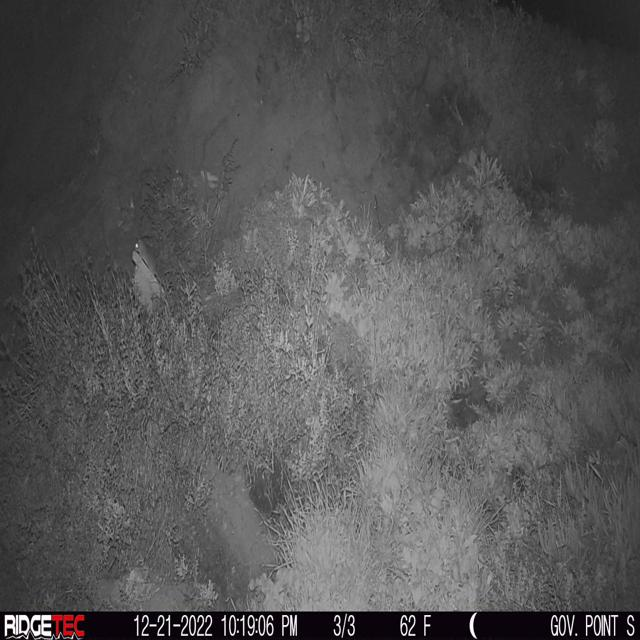rodent: (130, 237, 168, 290)
